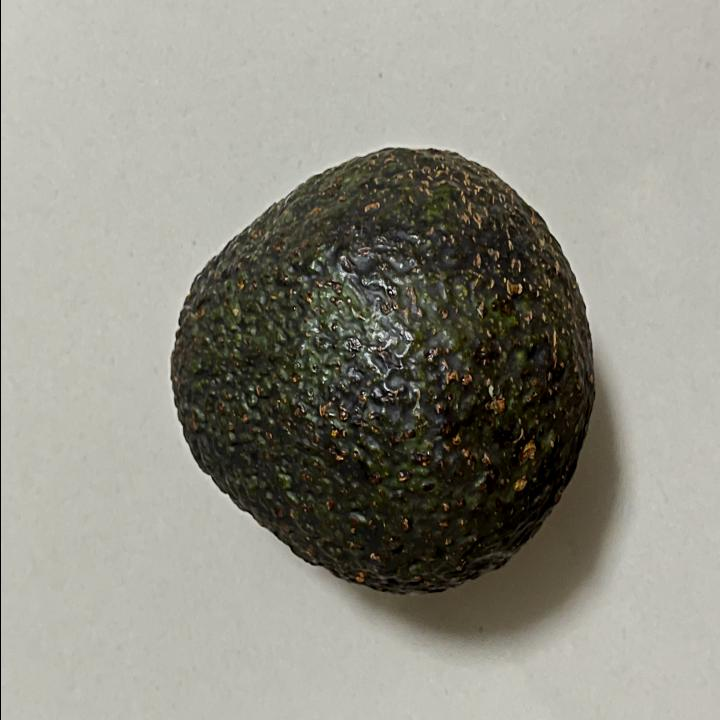Level1: (157, 135, 601, 608)
